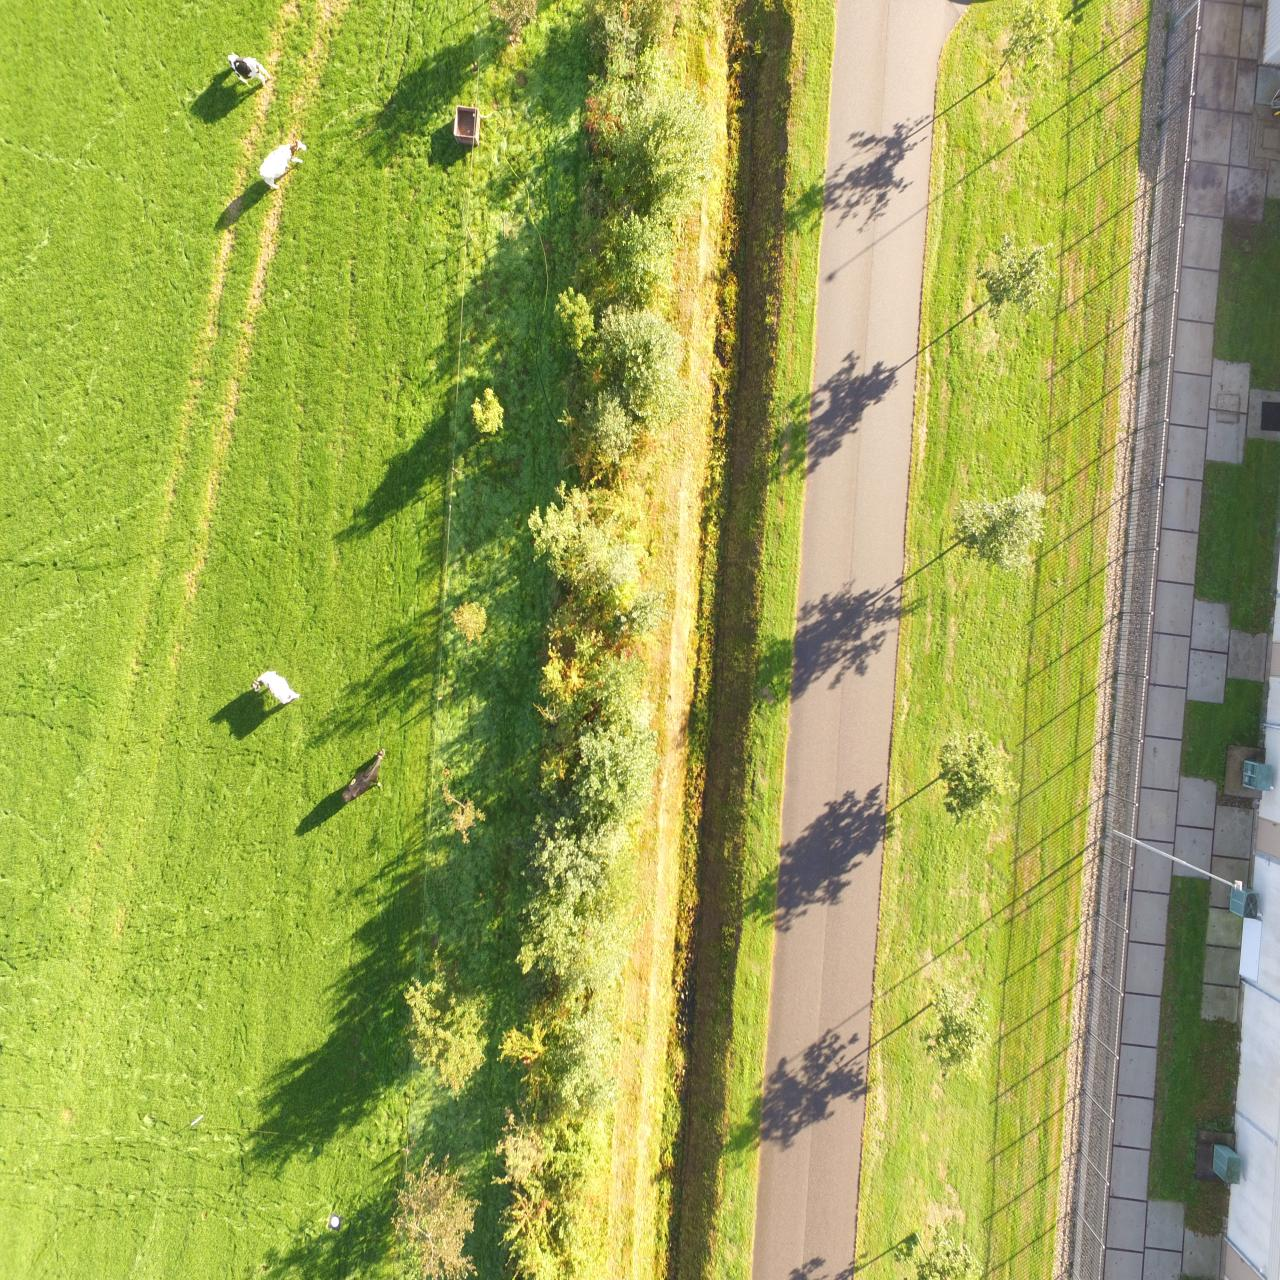cow: (340, 747, 387, 804), (259, 141, 305, 189), (252, 668, 304, 704), (227, 50, 271, 87)
